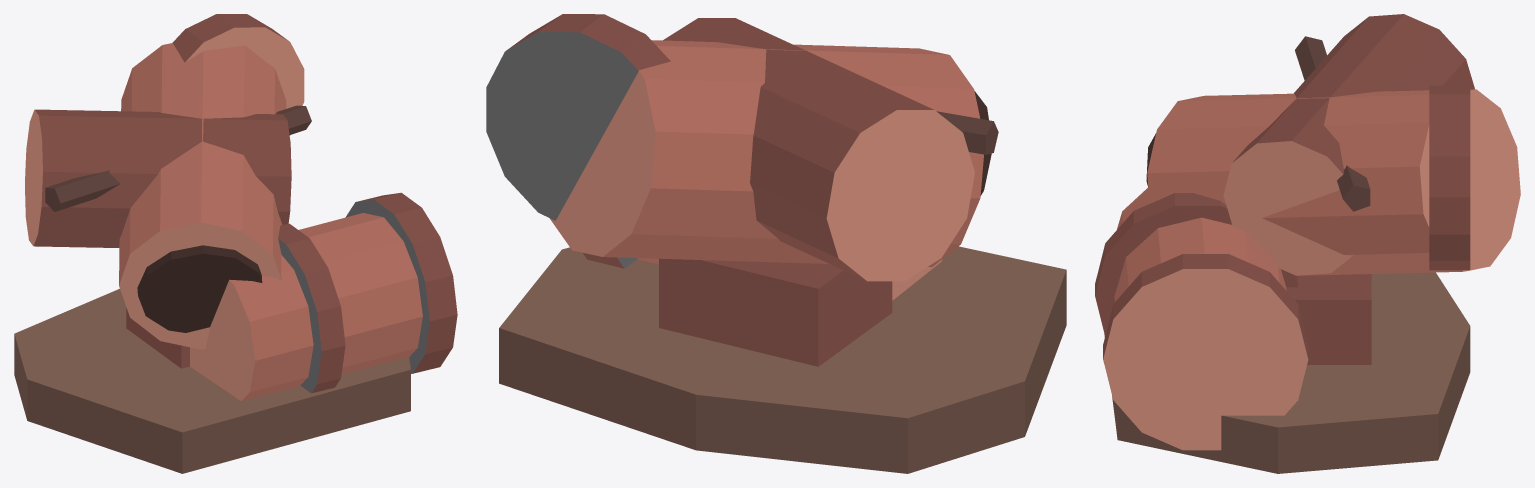
Rendered from Building_AncientPipes__B.glb.
3 views of the same model, side by side, from view 1: azimuth 30°, elevation 25°; view 2: azimuth 150°, elevation 25°; view 3: azimuth 270°, elevation 25° (orthographic). The views are drawn at different scales.
Visible parts, largest first — view 1: AncientPipes__B; view 2: AncientPipes__B; view 3: AncientPipes__B.
Part boxes in pixels (x1,y1,x2,y2): AncientPipes__B: (14,14,457,473); AncientPipes__B: (486,14,1066,473); AncientPipes__B: (1095,14,1520,473).
Bounding box in the file's own units: 0.9062 × 0.7 × 0.8298.
1 material, 1 textured.
